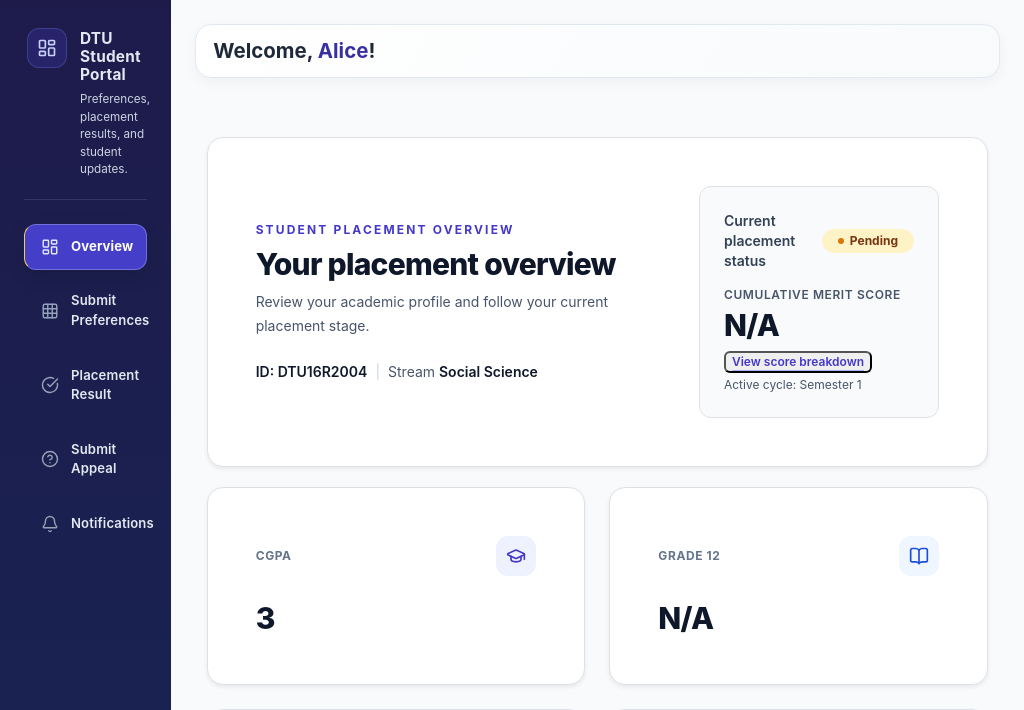
it: StudentDashboard › allows a Pending student to edit choices even when placement results are still present
This screenshot has width=1024, height=710.
Click the button "Submit Preferences" at (85, 311), box [24,278,147,344]
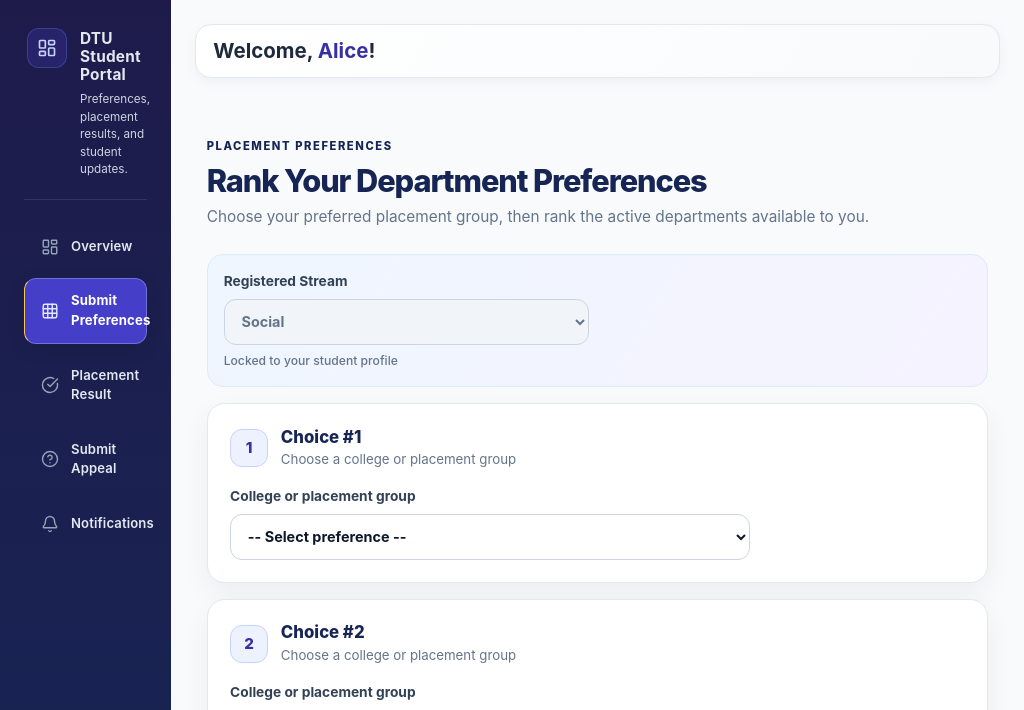
Check: the dropdown named "Choice #1" is enabled, box [230,514,750,560]
